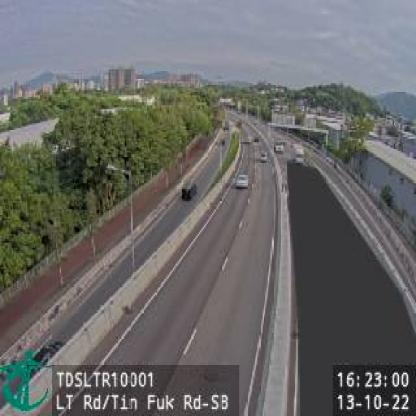Car: (181, 180, 198, 200), (236, 174, 250, 190)
